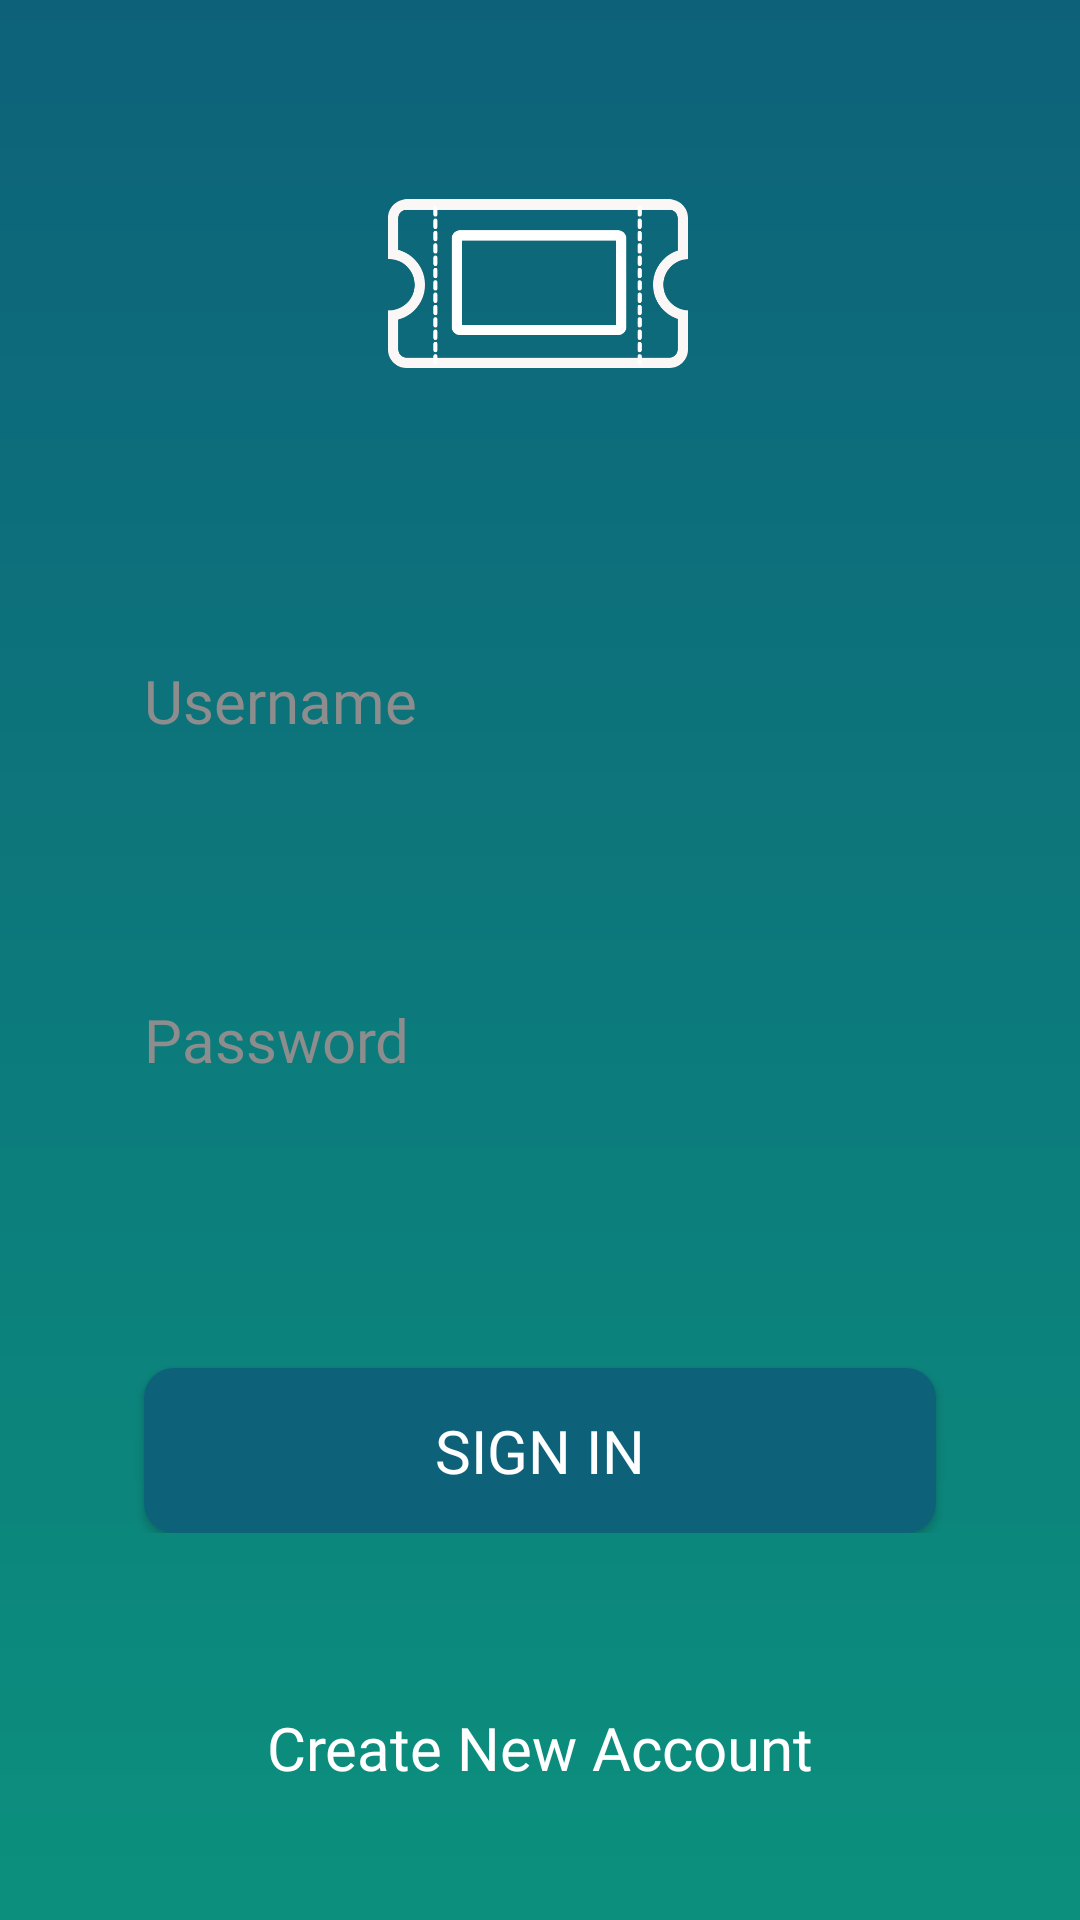

Icon click points for this 1080 × 1920 phone screenshot, format (x=x, y=y):
tiketmurni: (x=538, y=283)
